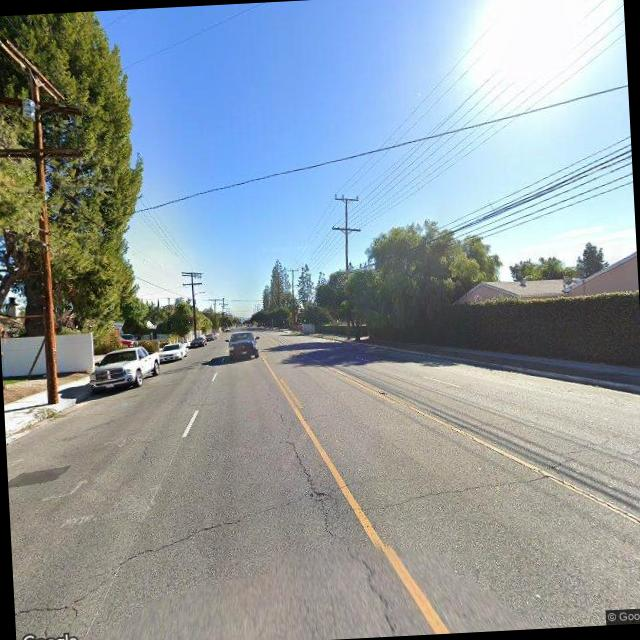crack: (27, 501, 310, 616), (275, 386, 391, 626), (351, 468, 567, 518)
